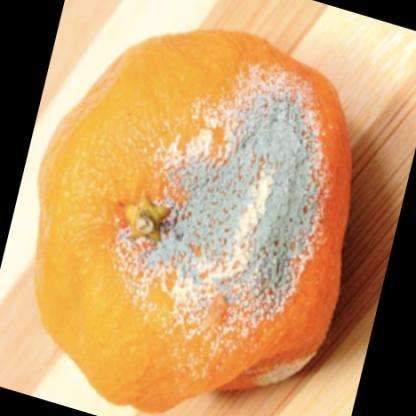rotten: (38, 28, 354, 413)
